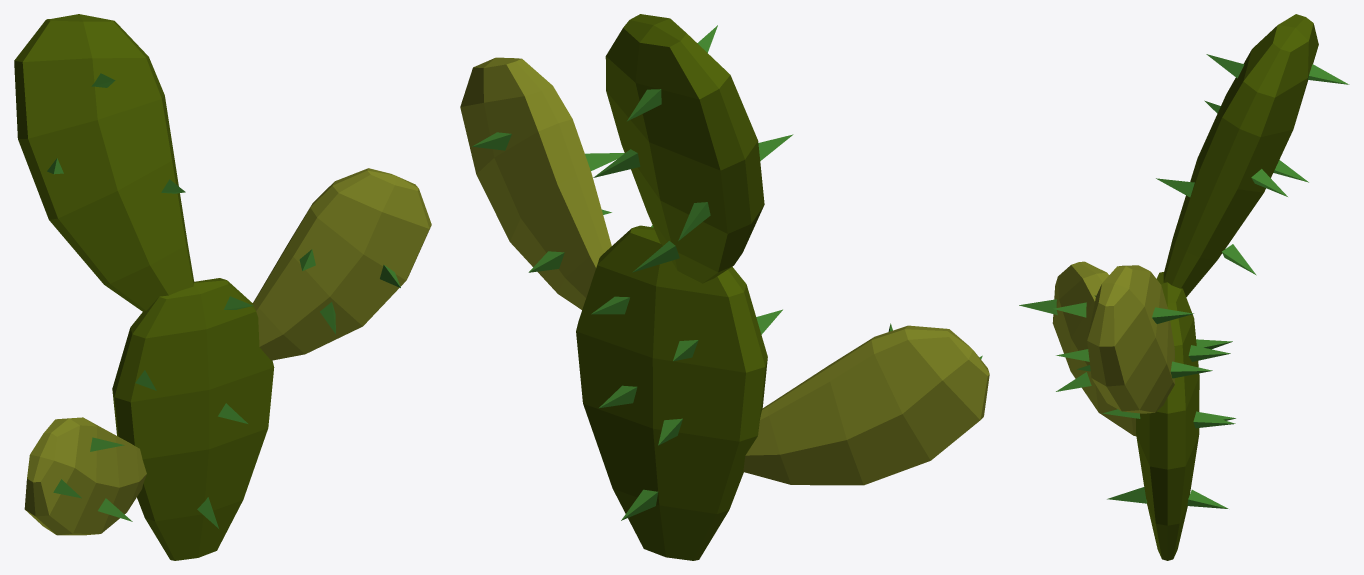
Rendered from Cactus_27_B.fbx.
3 renders of one model, left to right at view 1: azimuth 30°, elevation 25°; view 2: azimuth 150°, elevation 25°; view 3: azimuth 270°, elevation 25°, orthographic. The views are drawn at different scales.
Parts seen in each view (by area): view 1: Cactus_27_B; view 2: Cactus_27_B; view 3: Cactus_27_B.
Boxes of the visible parts, left/top/right/bottom form: Cactus_27_B: left=14, top=14, right=431, bottom=560; Cactus_27_B: left=460, top=14, right=989, bottom=560; Cactus_27_B: left=1019, top=14, right=1349, bottom=560.
Bounding box in the file's own units: 169 × 194 × 117.
